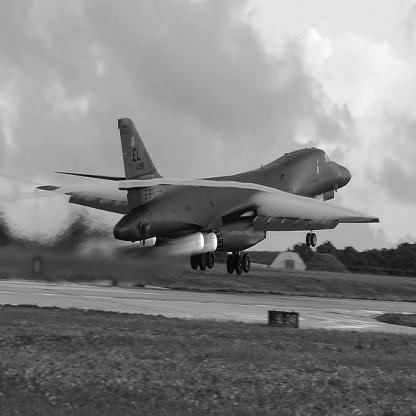B1: (37, 118, 381, 276)
